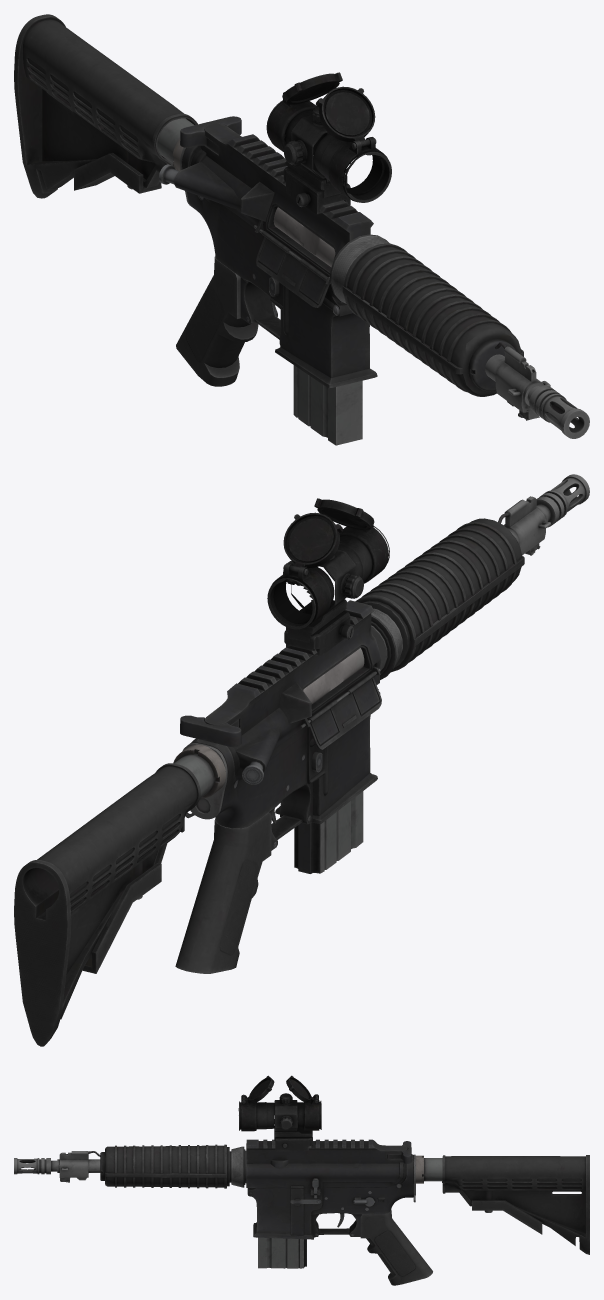
The picture shows the model from 3 angles, top to bottom: view 1: azimuth 30°, elevation 25°; view 2: azimuth 150°, elevation 25°; view 3: azimuth 270°, elevation 25°; orthographic projection. The views are drawn at different scales.
Visible parts, largest first — view 1: Receiver_m4_0.001, Stock_m4_0.001, Scope_scope_0.001, Magazine_m4_0.001, BoltCarrier_m4_0.001, ChargingHandle_m4_0.001; view 2: Receiver_m4_0.001, Stock_m4_0.001, Scope_scope_0.001, Magazine_m4_0.001, ChargingHandle_m4_0.001, BoltCarrier_m4_0.001; view 3: Receiver_m4_0.001, Stock_m4_0.001, Scope_scope_0.001, Magazine_m4_0.001.
Part boxes in pixels (x1,y1,x2,y2): Receiver_m4_0.001: [157, 118, 589, 438]; Stock_m4_0.001: [14, 14, 197, 198]; Scope_scope_0.001: [266, 72, 391, 214]; Magazine_m4_0.001: [293, 365, 362, 445]; BoltCarrier_m4_0.001: [273, 207, 335, 267]; ChargingHandle_m4_0.001: [180, 116, 241, 154]; Receiver_m4_0.001: [173, 474, 589, 973]; Stock_m4_0.001: [14, 763, 200, 1046]; Scope_scope_0.001: [267, 498, 389, 656]; Magazine_m4_0.001: [294, 791, 363, 873]; ChargingHandle_m4_0.001: [180, 715, 241, 747]; BoltCarrier_m4_0.001: [303, 648, 364, 704]; Receiver_m4_0.001: [14, 1139, 442, 1285]; Stock_m4_0.001: [442, 1155, 589, 1254]; Scope_scope_0.001: [238, 1075, 321, 1151]; Magazine_m4_0.001: [258, 1237, 306, 1268].
Bounding box in the file's own units: 0.0713 × 0.2925 × 0.748.
Materials: 2 (2 with a texture image).
